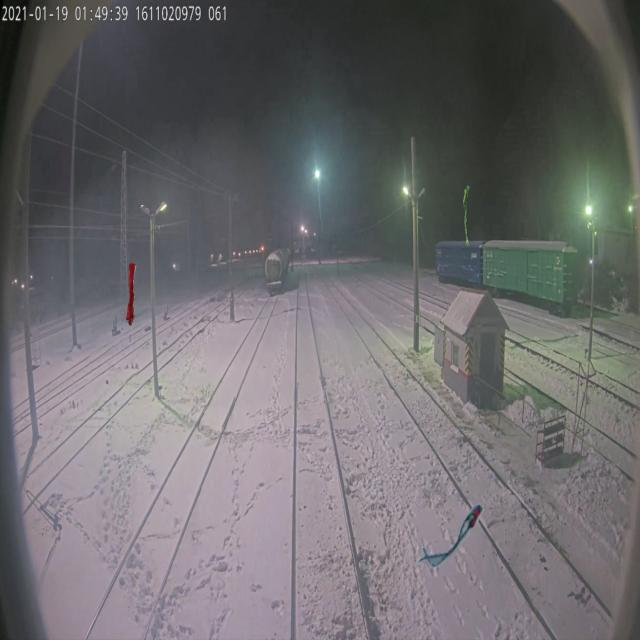floating object: (417, 503, 484, 567), (126, 262, 136, 326), (462, 185, 470, 249)
